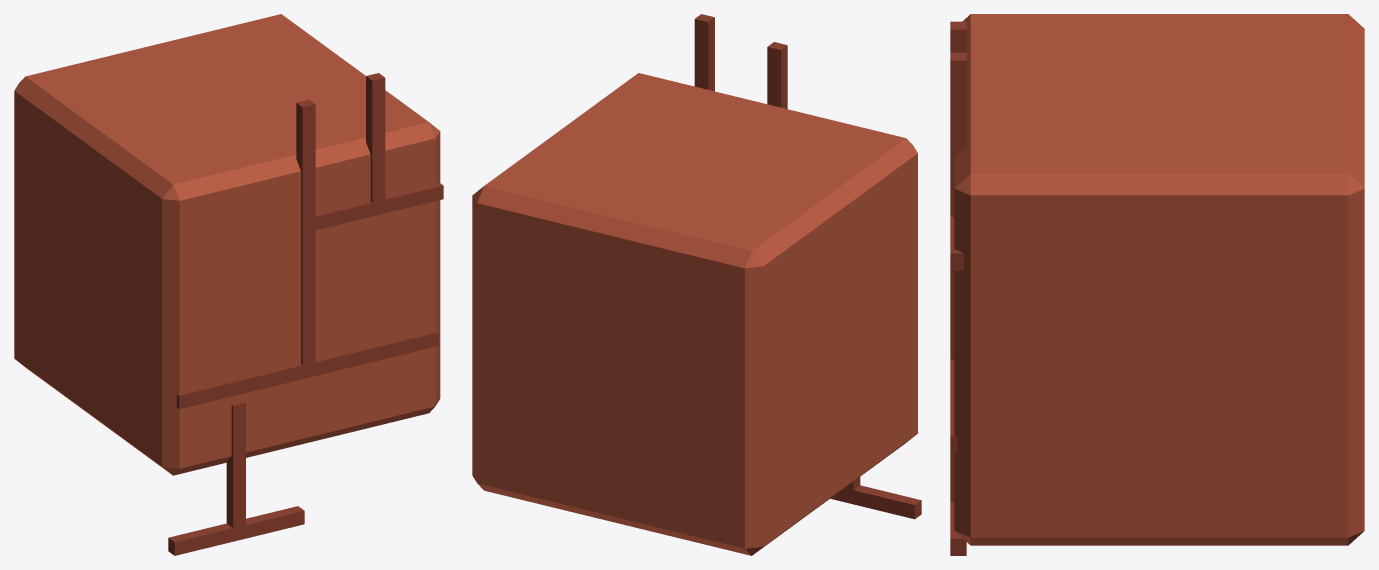
File: brick.glb
The picture shows the model from 3 angles, left to right: view 1: azimuth 30°, elevation 25°; view 2: azimuth 150°, elevation 25°; view 3: azimuth 270°, elevation 25°; orthographic projection. The views are drawn at different scales.
Parts seen in each view (by area): view 1: brick_block, brick_hjoint1, brick_hjoint0, brick_vjoint-0, brick_vjoint0.001, brick_vjoint-0.001, brick_vjoint0; view 2: brick_block, brick_vjoint-0, brick_vjoint0.001, brick_hjoint1; view 3: brick_block, brick_vjoint0.001, brick_hjoint1, brick_hjoint0.
Boxes of the visible parts, <box> form: brick_block: <box>14,14,440,475</box>; brick_hjoint1: <box>296,99,315,378</box>; brick_hjoint0: <box>176,330,438,409</box>; brick_vjoint-0: <box>168,506,304,555</box>; brick_vjoint0.001: <box>366,73,385,215</box>; brick_vjoint-0.001: <box>226,401,245,541</box>; brick_vjoint0: <box>314,182,443,230</box>; brick_block: <box>472,73,917,555</box>; brick_vjoint-0: <box>830,485,921,519</box>; brick_vjoint0.001: <box>694,14,714,91</box>; brick_hjoint1: <box>767,42,787,108</box>; brick_block: <box>954,14,1364,545</box>; brick_vjoint0.001: <box>950,52,966,216</box>; brick_hjoint1: <box>950,21,966,359</box>; brick_hjoint0: <box>950,359,956,453</box>.
Bounding box in the file's own units: 0.3 × 0.44 × 0.303.
